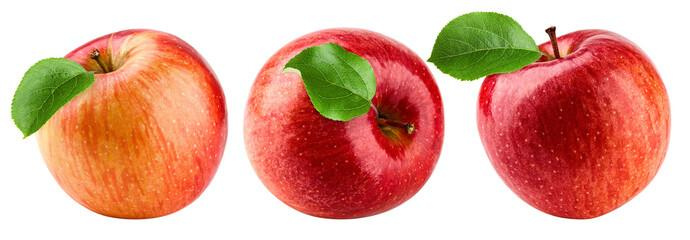apple: (238, 24, 450, 229), (13, 24, 229, 221), (470, 20, 674, 227)
